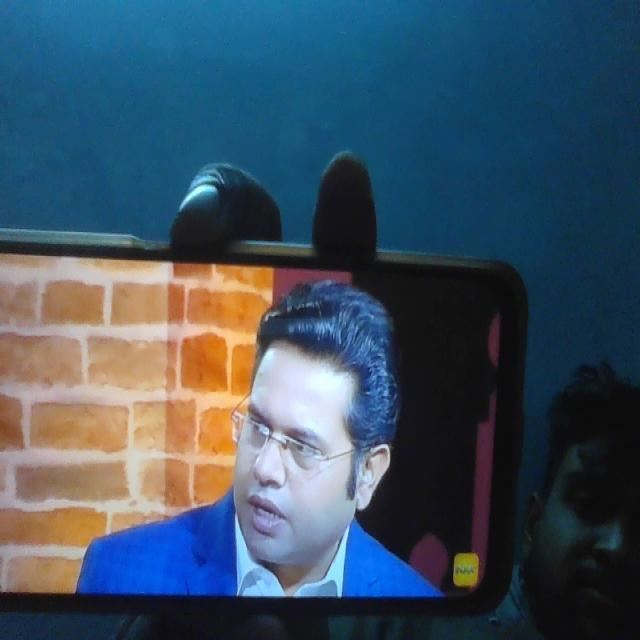fake: (226, 294, 374, 574)
